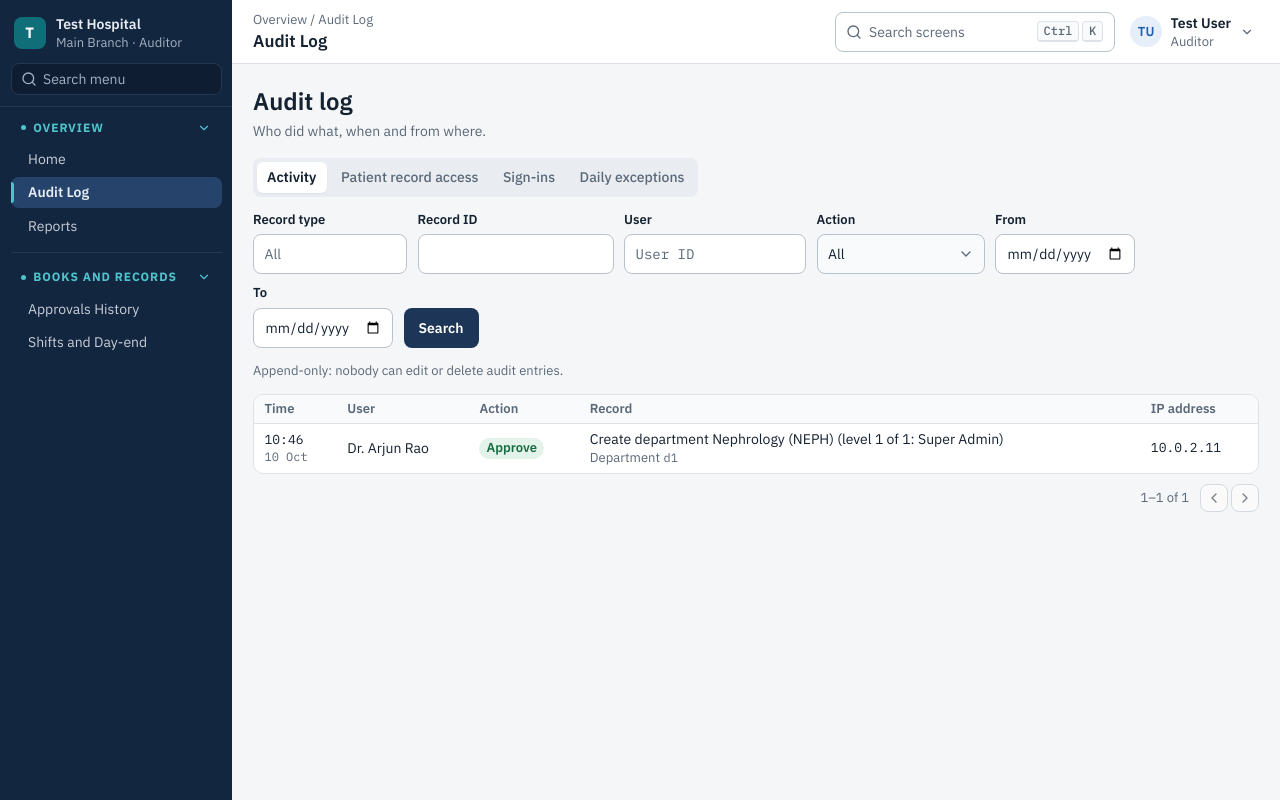
Test: Audit log › filters by a user when their name is clicked, and shows the entry diff
This screenshot has width=1280, height=800.
Click the button with aria-label "Show only entries by Dr. Arjun Rao": x=388, y=448 x1=347 y1=438 x2=429 y2=458
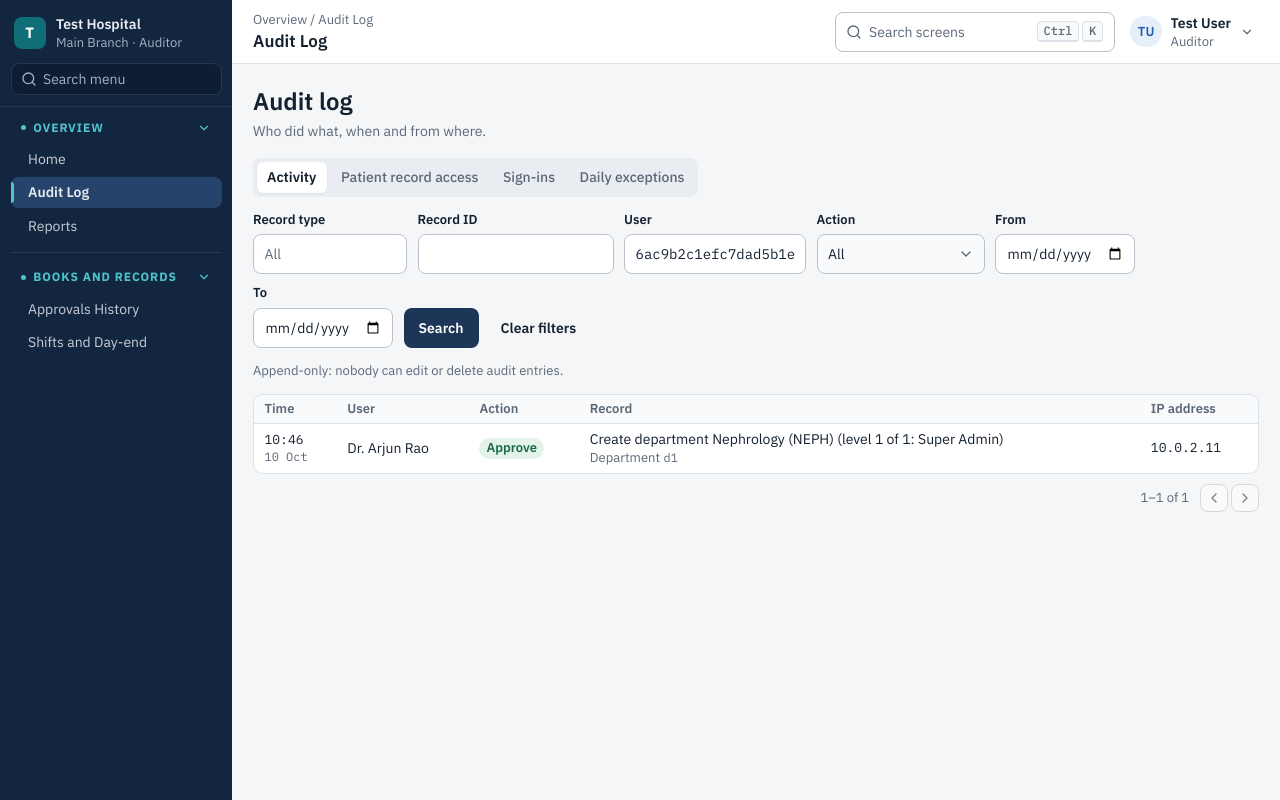
Click the cell "Create department Nephrology": x=860, y=448 x1=579 y1=424 x2=1140 y2=472
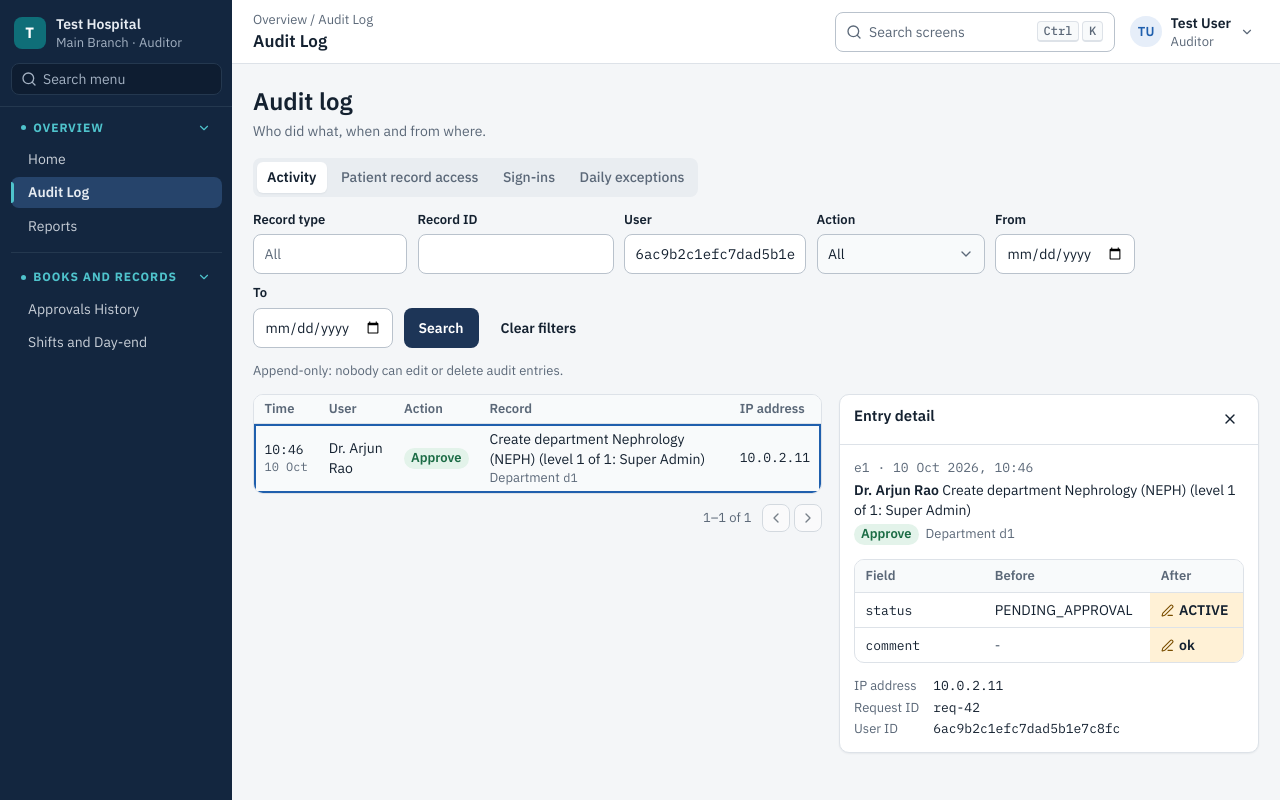
expect the element "Entry detail" shows "req-42": met, box x1=933 y1=698 x2=980 y2=716
expect the text "Approve" below "e1" is shown: met, box x1=861 y1=525 x2=912 y2=542
